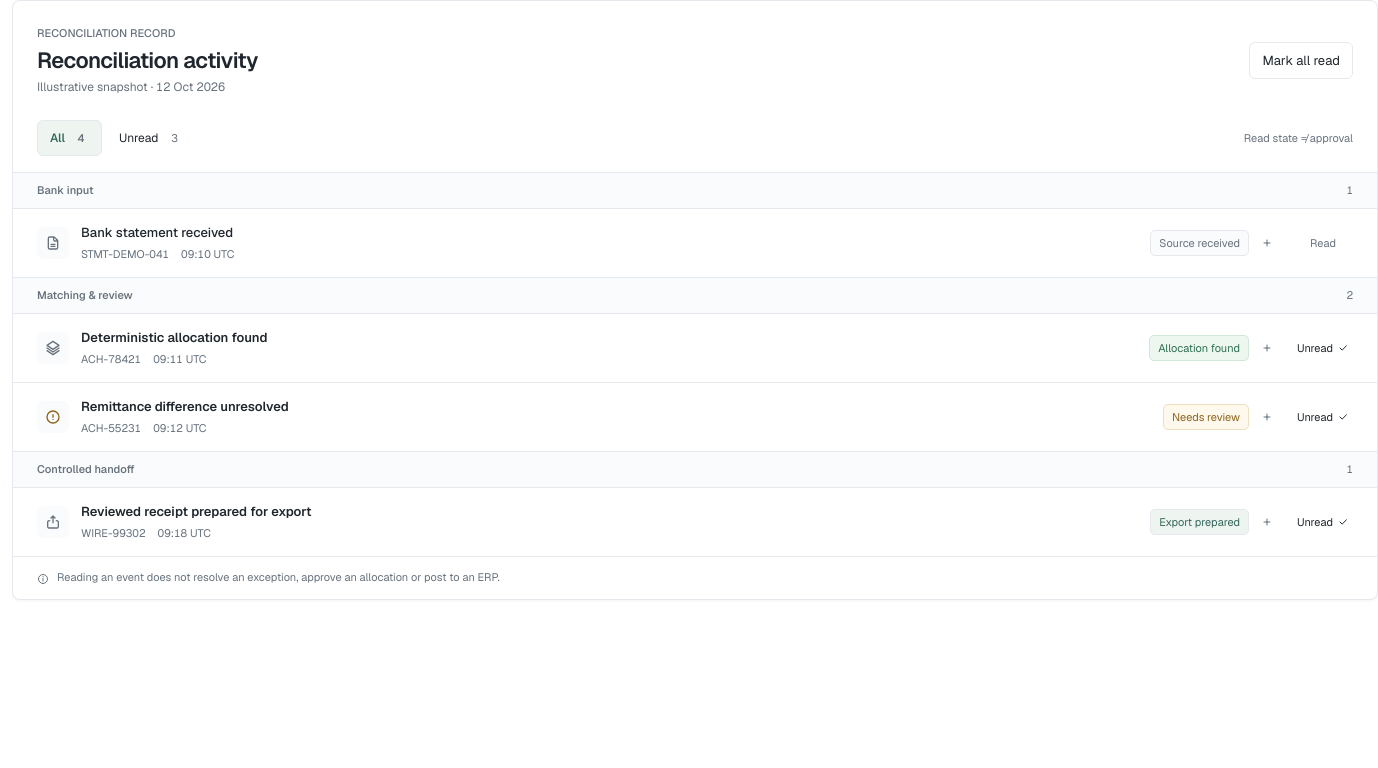
Scenario: ReconciliationActivity › filters unread events and does not mutate supplied financial status or data
Click the button "Unread 3": (151, 138) left=106, top=120, right=196, bottom=156
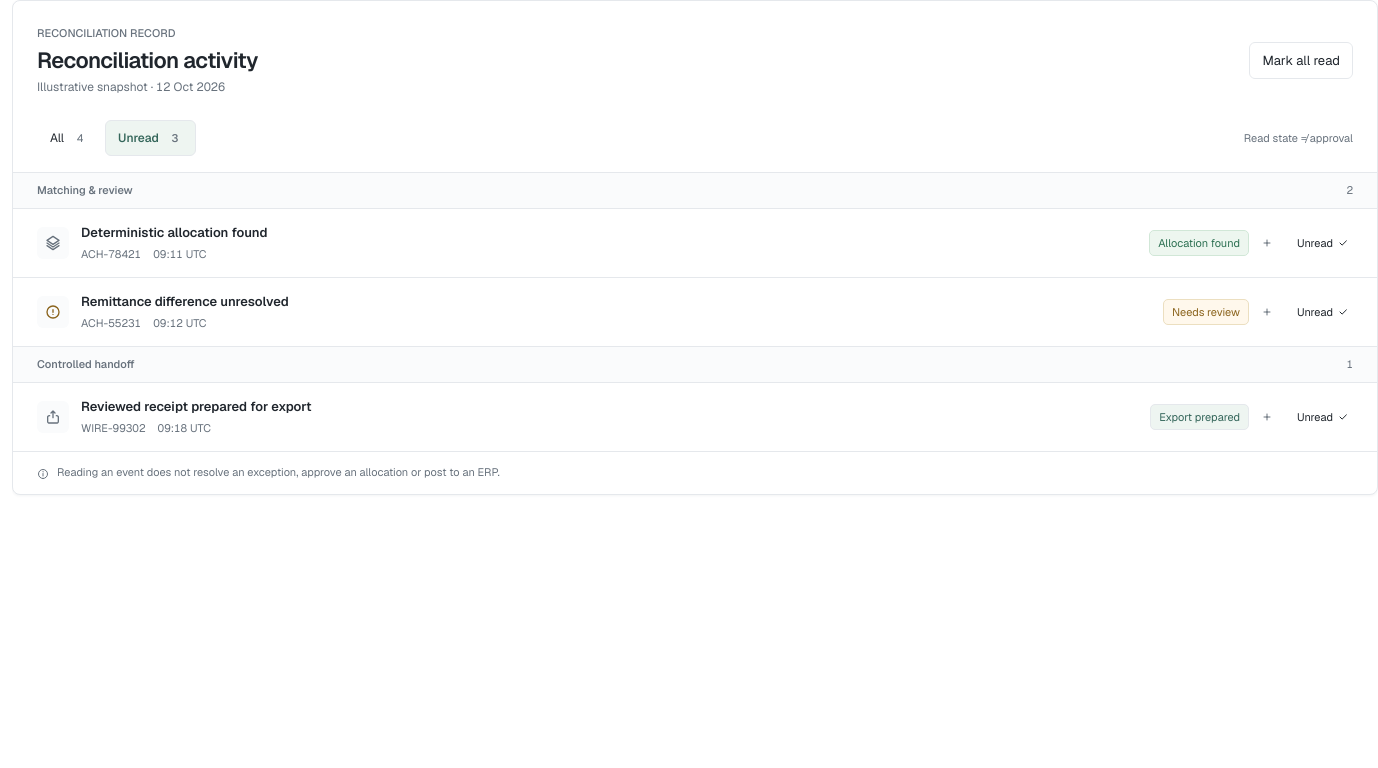
Expected: the number of list items is 3, left=13, top=209, right=1377, bottom=277; left=13, top=277, right=1377, bottom=346; left=13, top=383, right=1377, bottom=451
Expected: the button "Bank statement received" is gone
Click the button with aria-label "Mark EVENT-DEMO-103 as read": (1323, 312) left=1285, top=294, right=1361, bottom=330
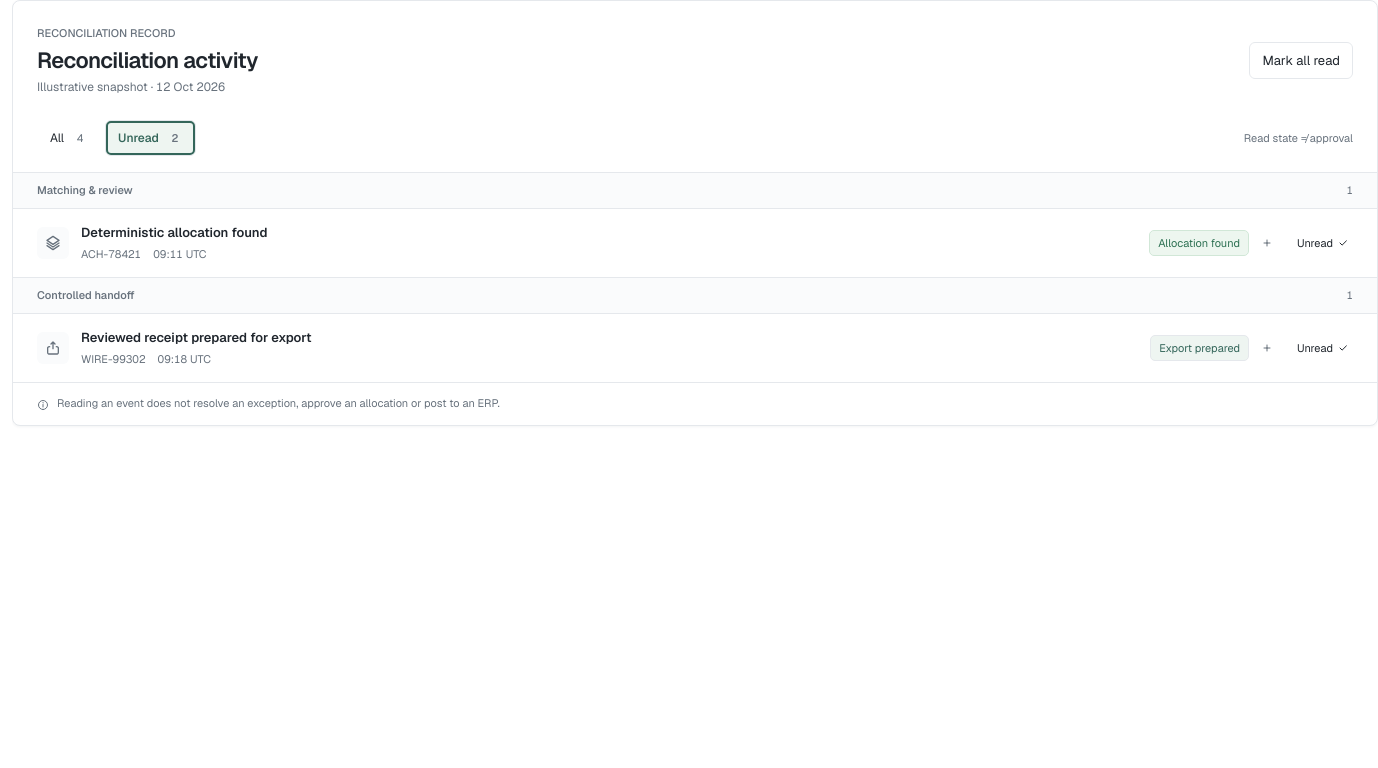
Expected: the number of list items is 2, left=13, top=209, right=1377, bottom=277; left=13, top=314, right=1377, bottom=382
Click the button "All 4": (69, 138) left=37, top=120, right=101, bottom=156
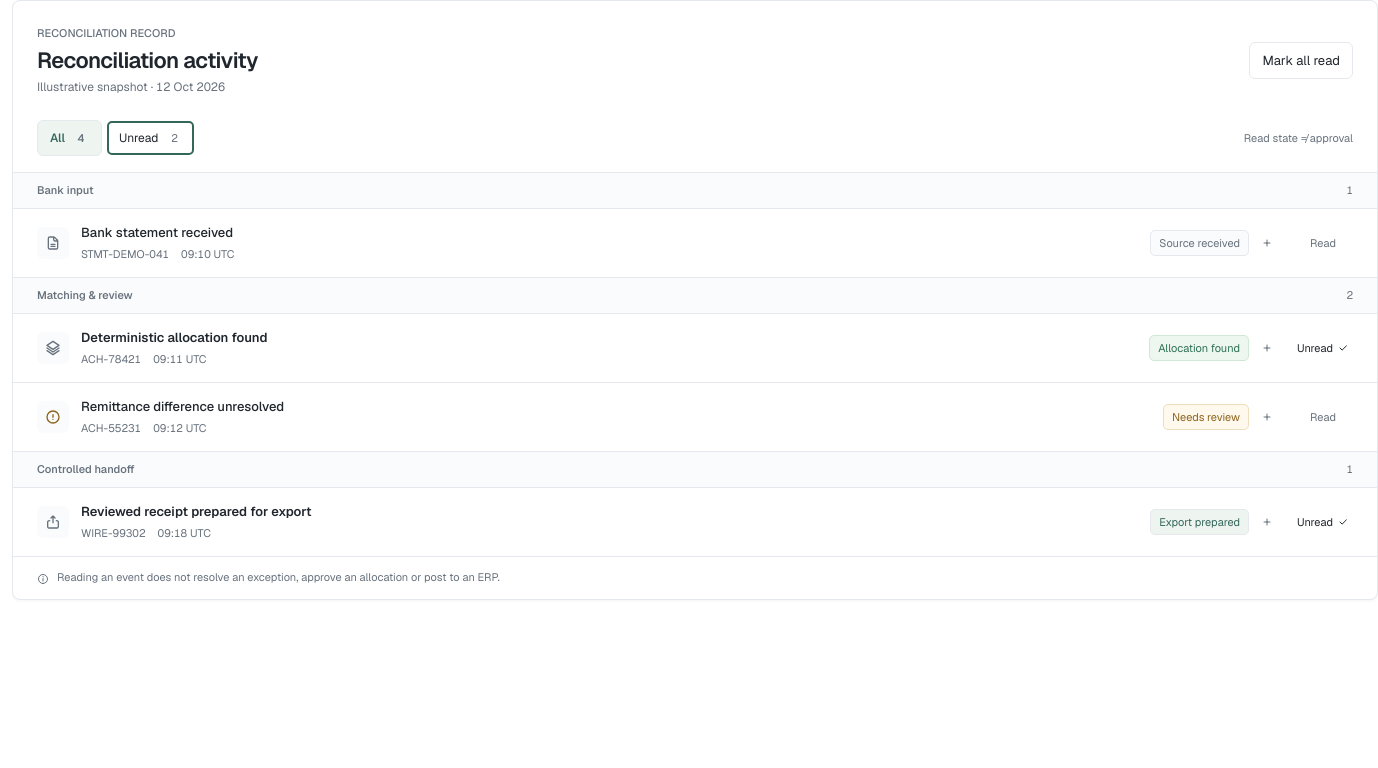
Expected: the 2nd text "Read" is shown, left=1310, top=410, right=1336, bottom=424
Expected: the text "Needs review" is shown, left=1163, top=404, right=1249, bottom=430
